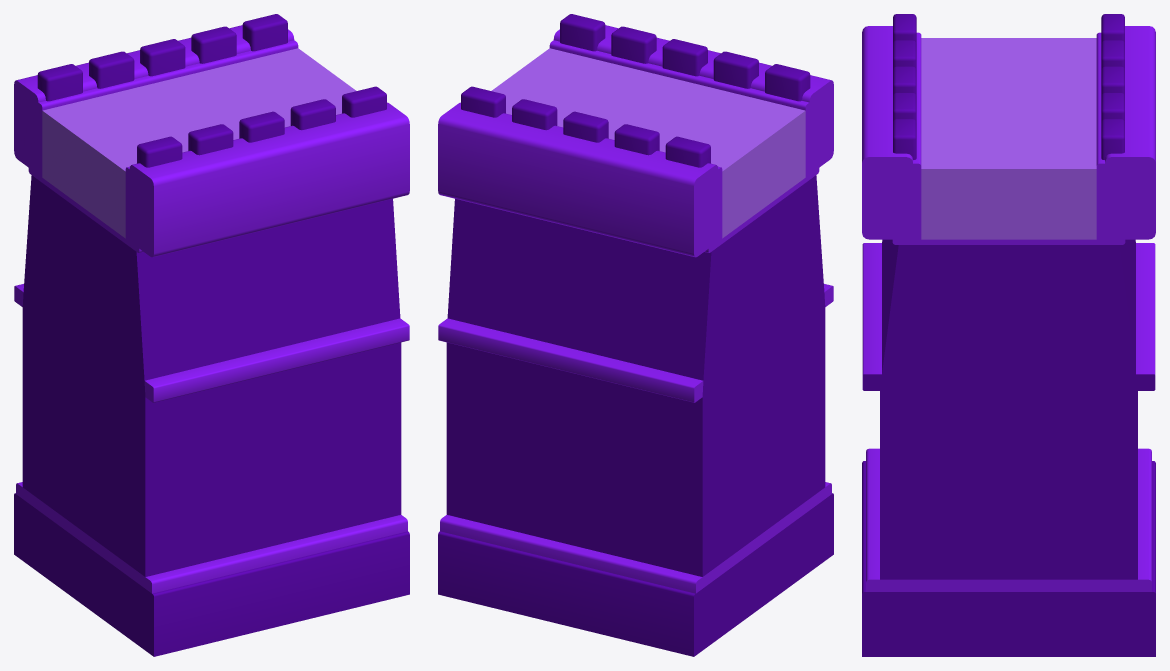
Rendered from mega wall straight (extra height).fbx.
The picture shows the model from 3 angles, left to right: view 1: azimuth 30°, elevation 25°; view 2: azimuth 150°, elevation 25°; view 3: azimuth 270°, elevation 25°; orthographic projection. The views are drawn at different scales.
Visible parts, largest first — view 1: Plane.063; view 2: Plane.063; view 3: Plane.063.
Boxes of the visible parts, x1,y1,x2,y2 form: Plane.063: (14, 14, 409, 656); Plane.063: (438, 14, 833, 656); Plane.063: (862, 14, 1155, 656).
Bounding box in the file's own units: 100 × 184 × 94.69.
1 material, 1 textured.
